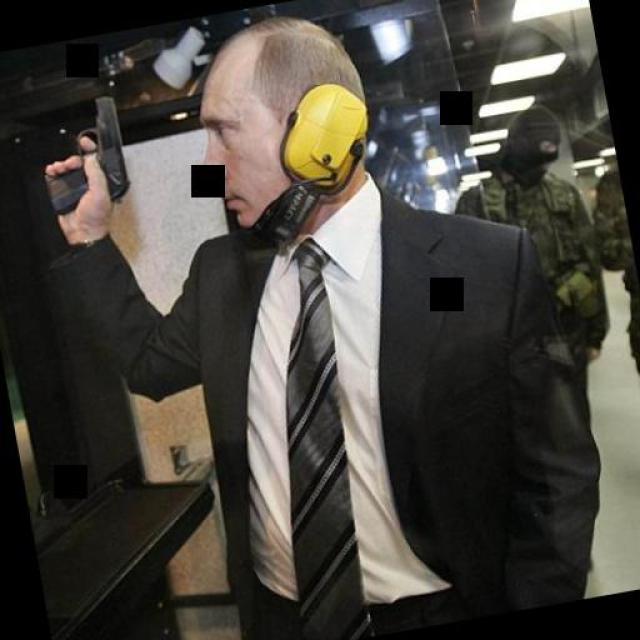gun: (28, 91, 134, 218)
